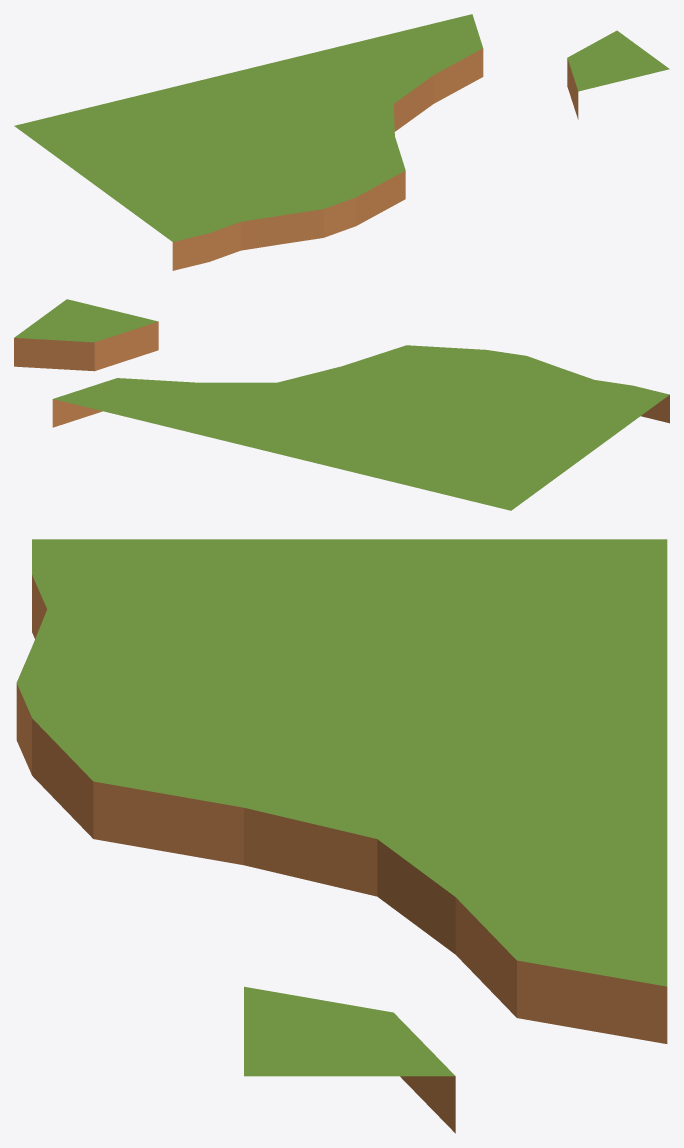
File: tileset_grass.fbx
The picture shows the model from 3 angles, top to bottom: view 1: azimuth 30°, elevation 25°; view 2: azimuth 150°, elevation 25°; view 3: azimuth 270°, elevation 25°; orthographic projection. The views are drawn at different scales.
Visible parts, largest first — view 1: grass_flat, grass_air_in, grass_air_line, grass_air_saddle, grass_air_out; view 2: grass_flat, grass_air_in, grass_air_saddle, grass_air_line, grass_air_out; view 3: grass_flat, grass_air_in, grass_air_saddle, grass_air_line, grass_air_out.
Part boxes in pixels (x1=…): grass_flat: x1=14, y1=81, x2=302, y2=203; grass_air_in: x1=197, y1=36, x2=433, y2=158; grass_air_line: x1=120, y1=159, x2=356, y2=270; grass_air_saddle: x1=381, y1=14, x2=669, y2=119; grass_air_out: x1=303, y1=136, x2=405, y2=225; grass_flat: x1=328, y1=388, x2=616, y2=510; grass_air_in: x1=145, y1=366, x2=433, y2=465; grass_air_saddle: x1=14, y1=299, x2=196, y2=427; grass_air_line: x1=434, y1=350, x2=669, y2=433; grass_air_out: x1=342, y1=345, x2=485, y2=388; grass_flat: x1=244, y1=539, x2=667, y2=718; grass_air_in: x1=244, y1=718, x2=667, y2=954; grass_air_saddle: x1=244, y1=897, x2=667, y2=1133; grass_air_line: x1=16, y1=539, x2=243, y2=774; grass_air_out: x1=32, y1=718, x2=243, y2=865.
Size of the model in its own units: 15 by 0.75 by 7.68.
